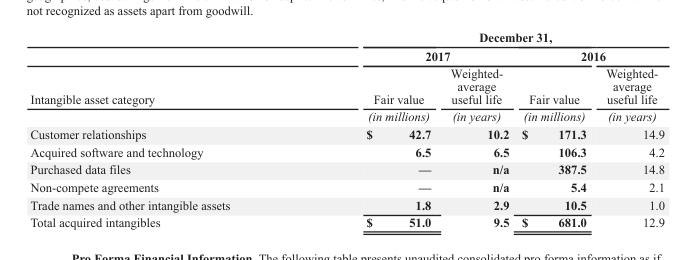table: (29, 29, 663, 229)
table column: (29, 29, 297, 229), (297, 29, 440, 229), (514, 29, 595, 229), (440, 29, 514, 229), (595, 29, 663, 229)
table column header: (29, 29, 663, 124)
table row: (29, 64, 663, 124), (29, 45, 663, 64), (29, 124, 663, 142), (29, 142, 663, 160), (29, 177, 663, 195), (29, 195, 663, 213), (29, 160, 663, 177), (29, 29, 663, 45), (29, 213, 663, 229)
table spanning cell: (29, 29, 297, 124), (297, 29, 663, 45), (297, 45, 514, 64), (514, 45, 663, 64)
